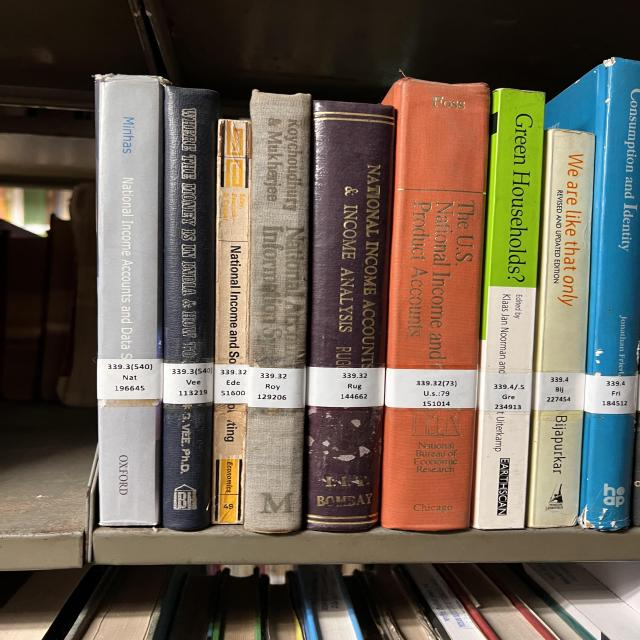Book: (380, 78, 490, 531), (547, 58, 640, 531), (307, 101, 395, 531), (473, 89, 545, 529), (95, 75, 165, 526), (243, 90, 312, 532), (527, 129, 595, 528), (162, 86, 218, 530), (212, 119, 252, 524)
Label: (385, 368, 478, 409), (307, 366, 385, 408), (97, 359, 163, 400), (248, 368, 305, 409), (478, 372, 532, 411), (163, 362, 213, 404), (533, 372, 585, 411), (213, 364, 248, 404)
